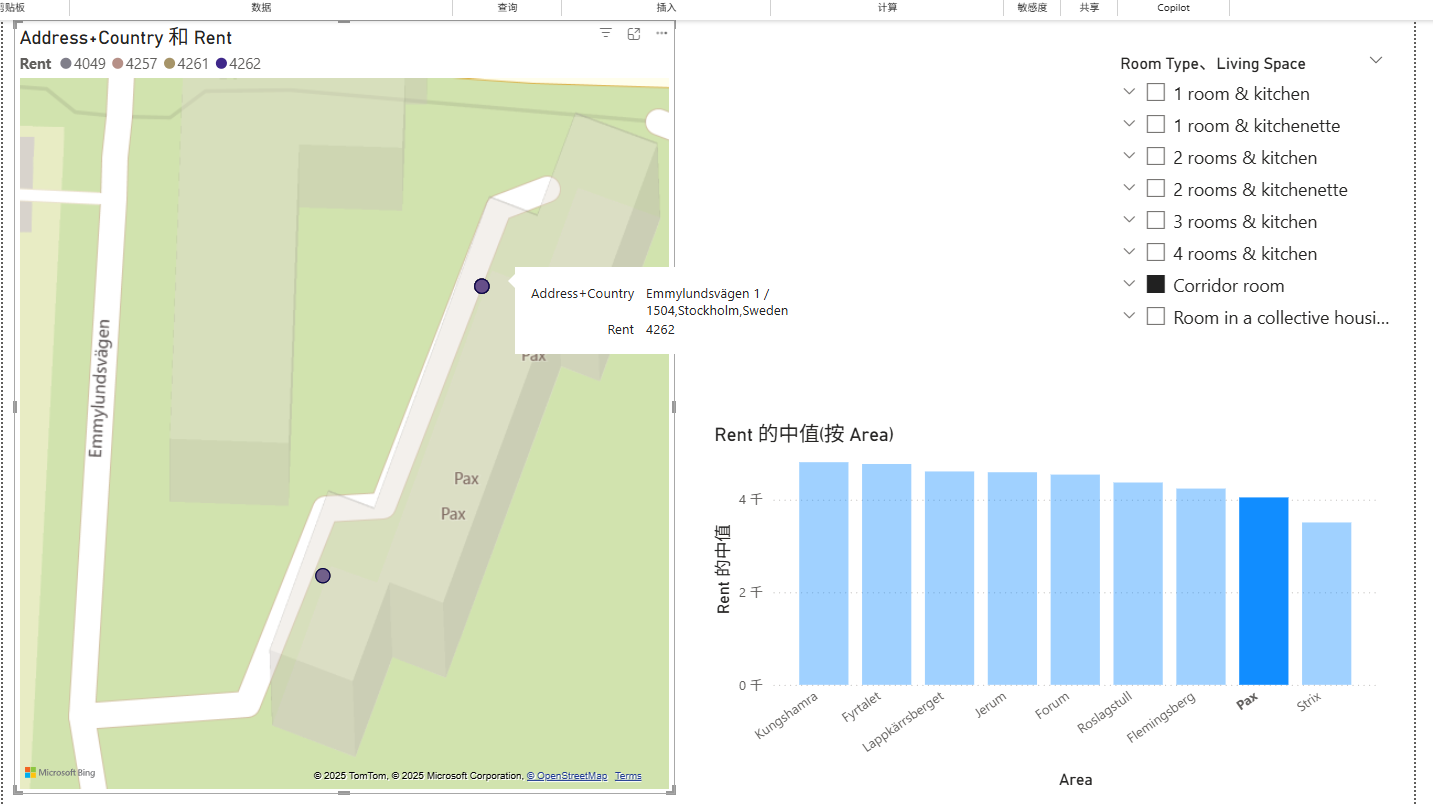

Layout of this report page (visuals, bound fields, positions):
{"tool":"powerbi","page":{"name":"第 1 页","canvas":[1280,720],"ordinal":0},"visuals":[{"type":"map","fields":{"Category":["output_updated (2).Address+Country"],"Series":["output_updated (2).Rent"]},"box":[10,0,599.4,701.9],"z":0},{"type":"columnChart","fields":{"Y":["Median(output_updated (2).Rent)"],"Category":["output_updated (2).Area"]},"box":[640.2,360,611.2,341.9],"z":1000},{"type":"slicer","fields":{"Values":["output_updated (2).Room Type","output_updated (2).Living Space"]},"box":[1000.2,20.9,263.9,284.7],"z":1001}]}

Visuals, with their boxes on the page's 1280x720 design canvas (x1, y1, x2, y2). These are canvas units, not pixel positions in the 1433x804 screenshot, which may show the page scaled, cropped or inside an application window:
map - output_updated (2).Address+Country x output_updated (2).Rent: box(10, 0, 609, 702)
columnChart - Median(output_updated (2).Rent) x output_updated (2).Area: box(640, 360, 1251, 702)
slicer - output_updated (2).Room Type x output_updated (2).Living Space: box(1000, 21, 1264, 306)
